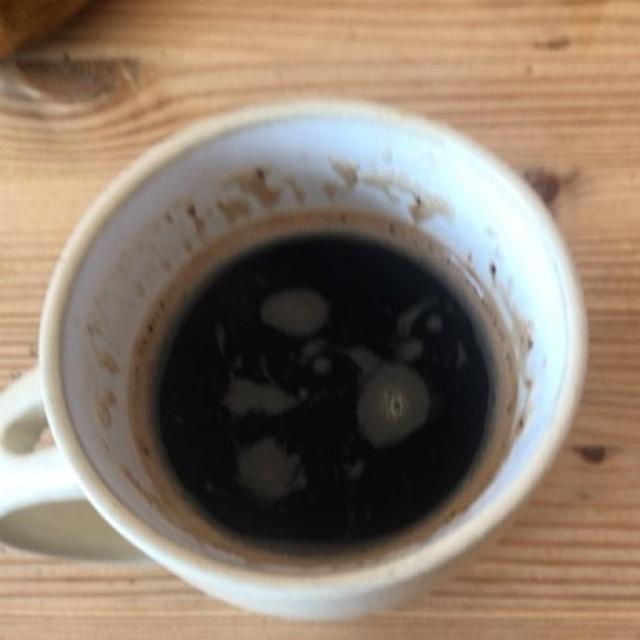coffee: (151, 224, 503, 543)
